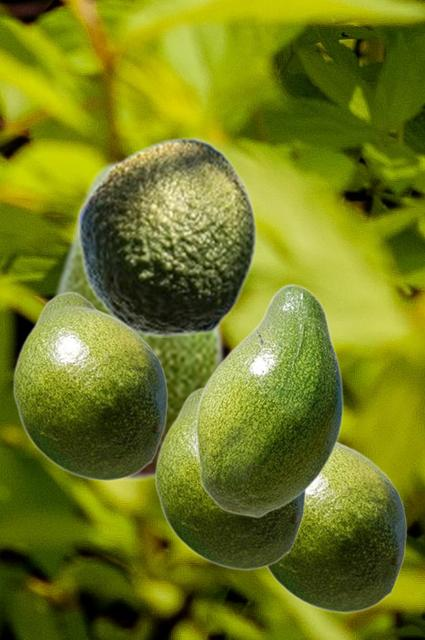avocado: (46, 153, 226, 483), (76, 137, 256, 336), (195, 283, 343, 517), (12, 291, 167, 481), (154, 386, 305, 570), (266, 441, 406, 613)
